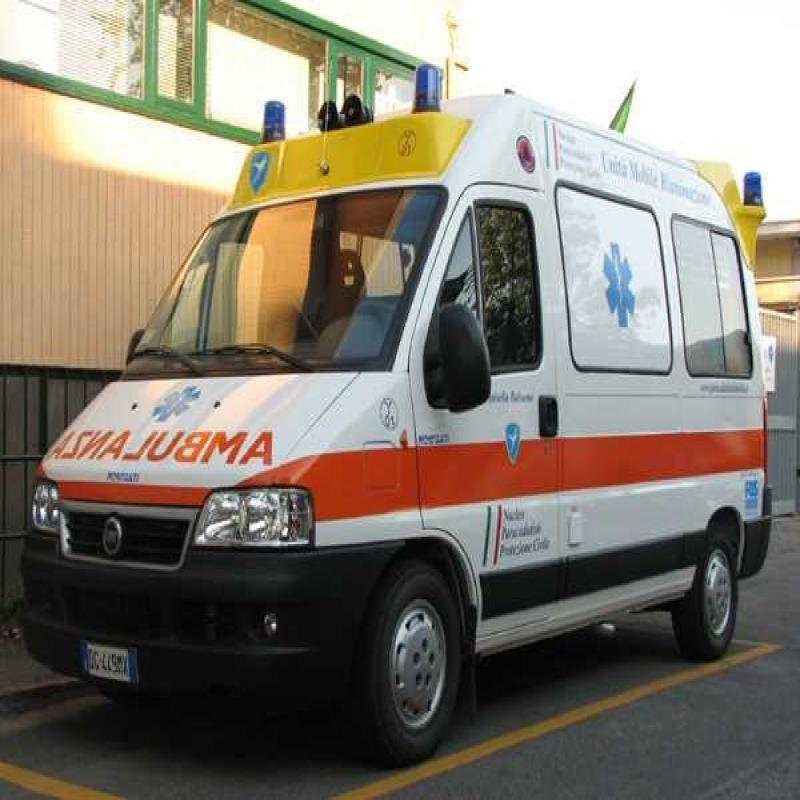AmbulanceSiren: (405, 46, 446, 123), (252, 87, 290, 157)
